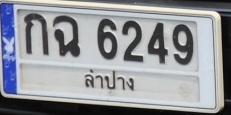txt01: (22, 12, 51, 57)
txt07: (51, 14, 82, 58)
